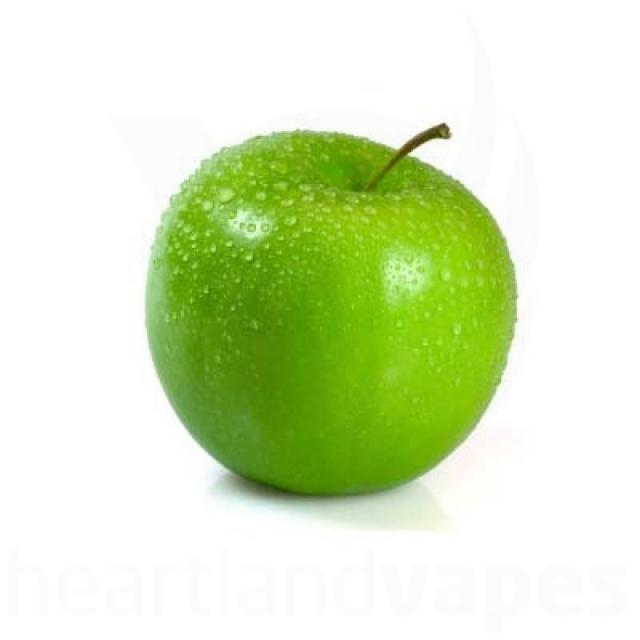Apple: (132, 117, 529, 506)
